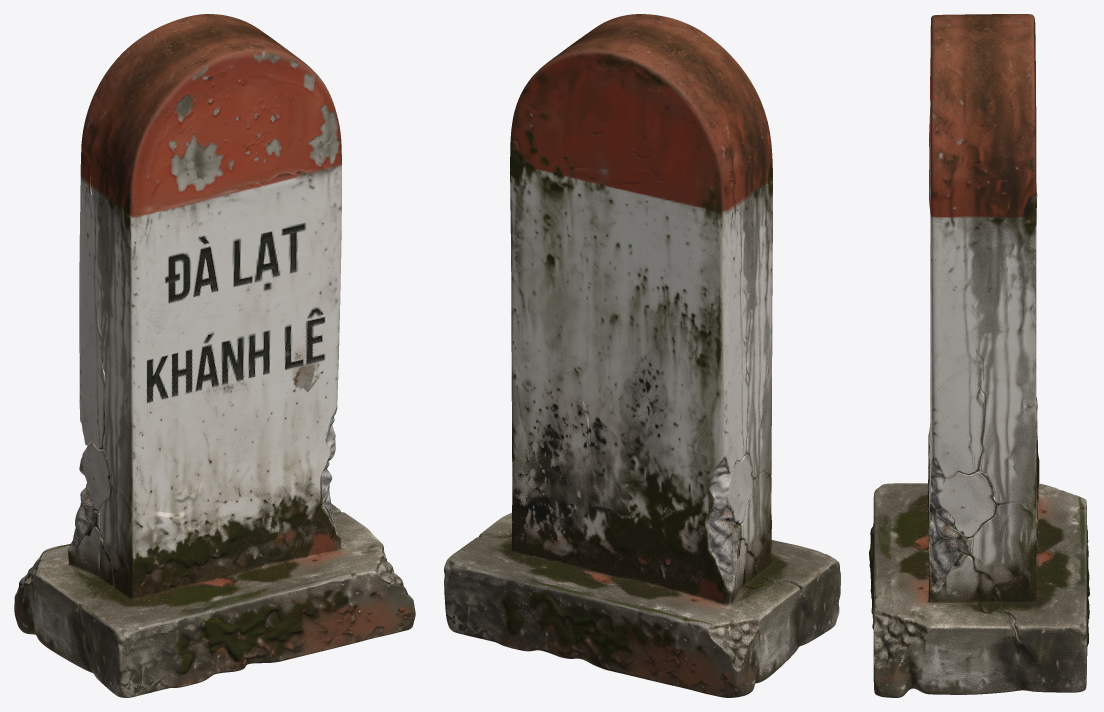
File: Meshy_AI_Weathered_Đà_Lạt_Milestone_20261108_texture.fbx
3 renders of one model, left to right at view 1: azimuth 30°, elevation 25°; view 2: azimuth 150°, elevation 25°; view 3: azimuth 270°, elevation 25°, orthographic.
Visible parts, largest first — view 1: Mesh_0; view 2: Mesh_0; view 3: Mesh_0.
Part boxes in pixels (x1,y1,x2,y2): Mesh_0: (14, 14, 415, 697); Mesh_0: (444, 14, 840, 697); Mesh_0: (869, 14, 1089, 697).
Size of the model in its own units: 101 by 190 by 63.32.
1 material, 1 textured.
